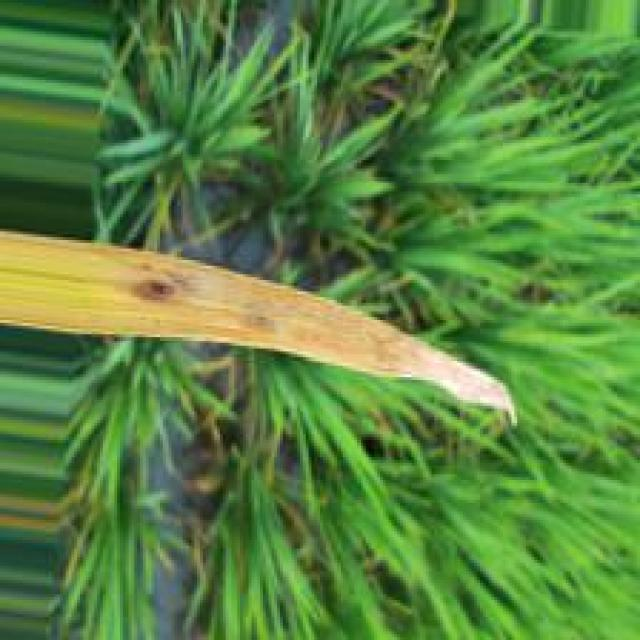Bacterial_Leaf_Blight: (0, 229, 517, 418)
